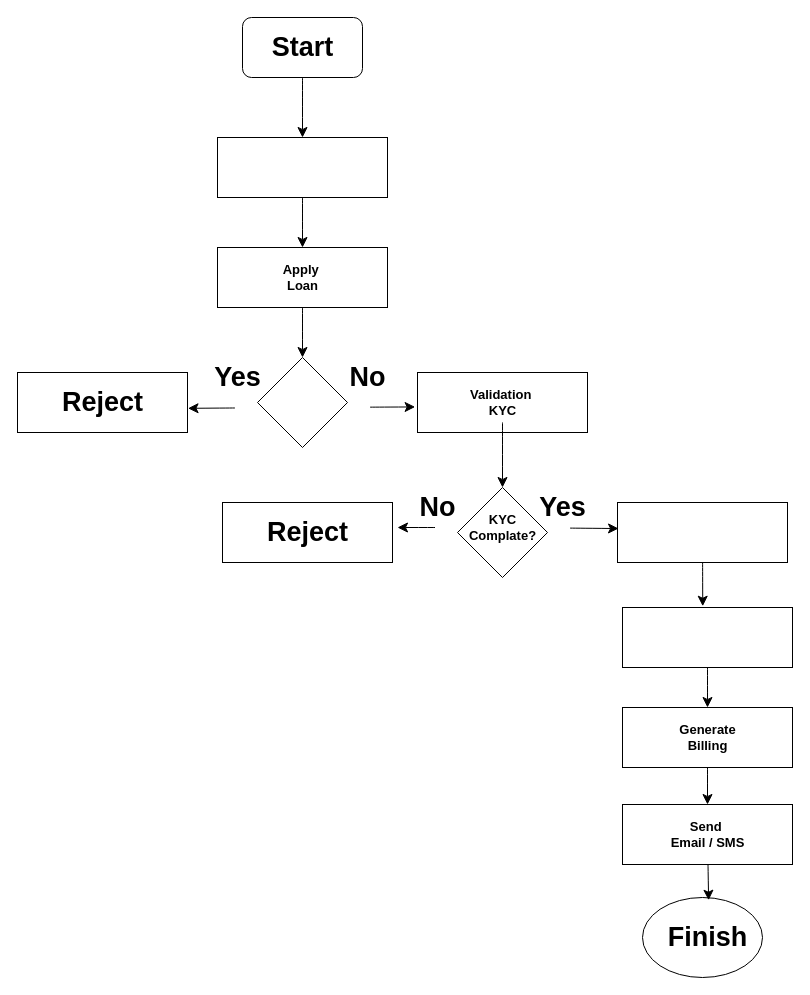
This 810x995 diagram has some shape labels left out. Each missing label, with the box of its shape:
Create Loan: (622, 606, 792, 668)
Credit Scoring: (616, 502, 788, 562)
Outstanding Loan?: (256, 356, 348, 448)
User Login: (216, 136, 388, 198)
